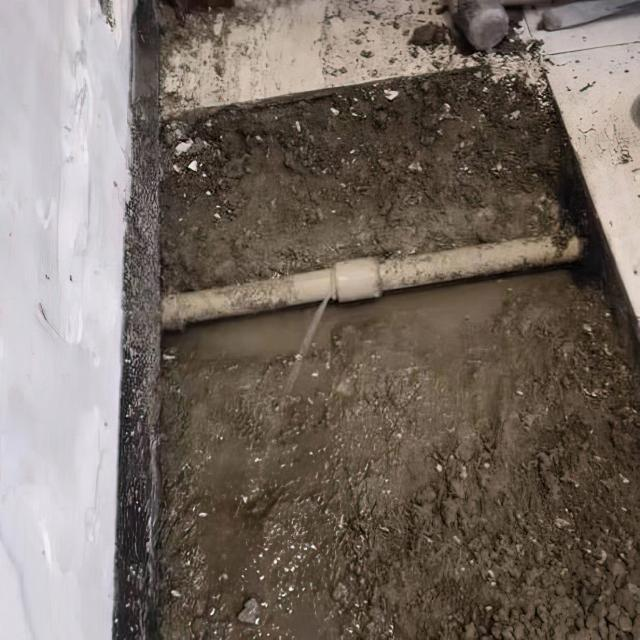pipe burst: (266, 284, 339, 458)
water accumulation: (167, 260, 613, 355)
